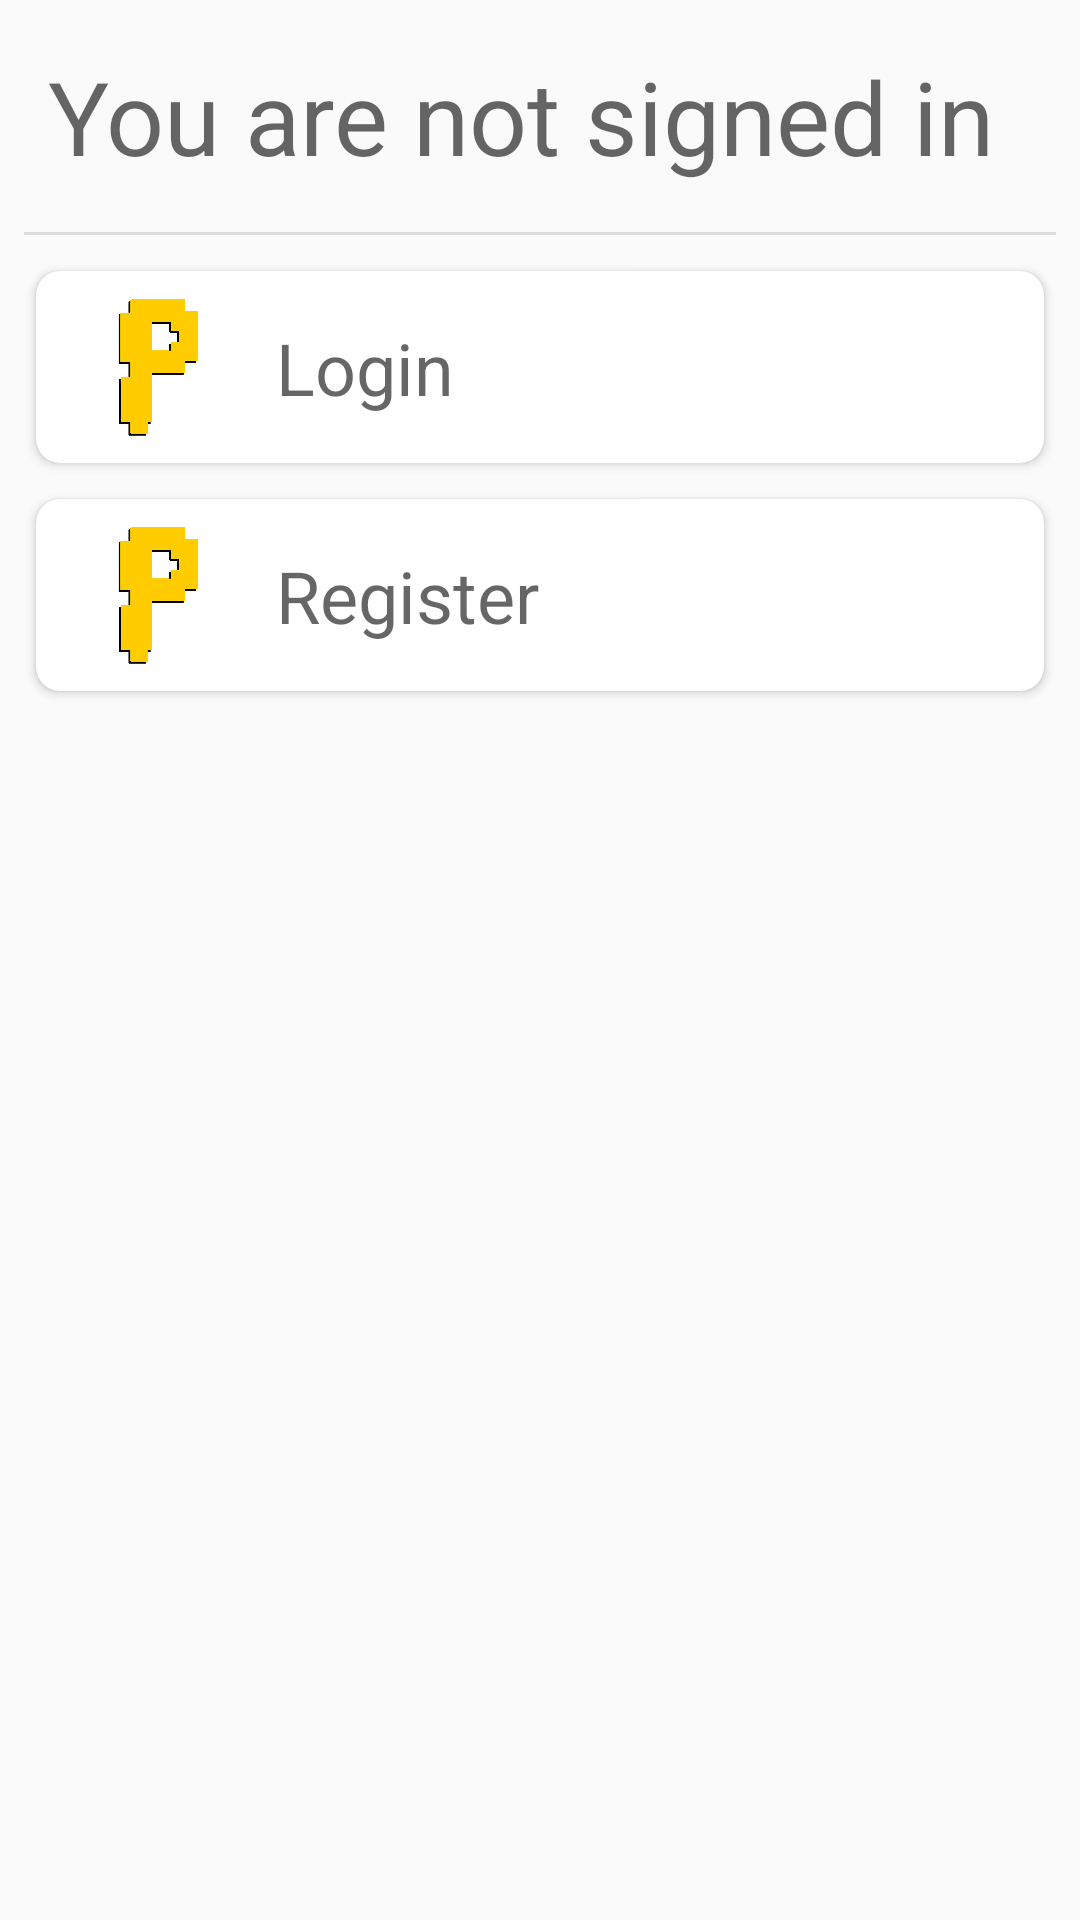

Icons on this 1080*1920 Android screen, each with the point to tap as [x,y]:
pixel: [158,367], [158,595]
